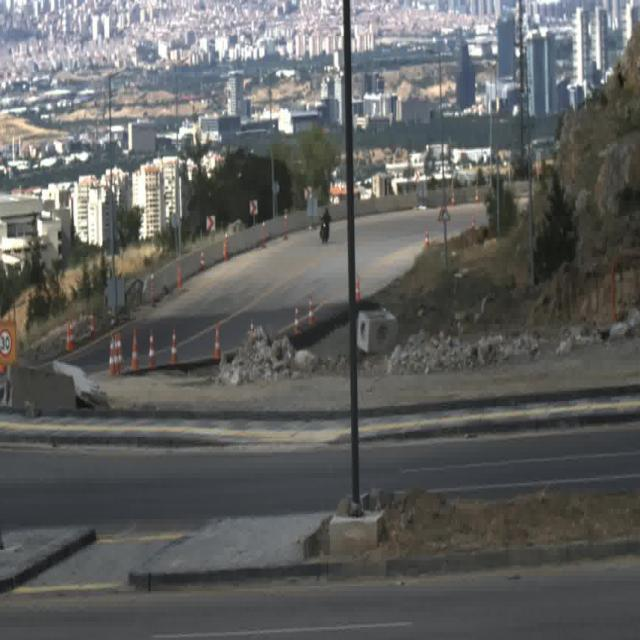Motorcycle: (320, 209, 332, 243)
